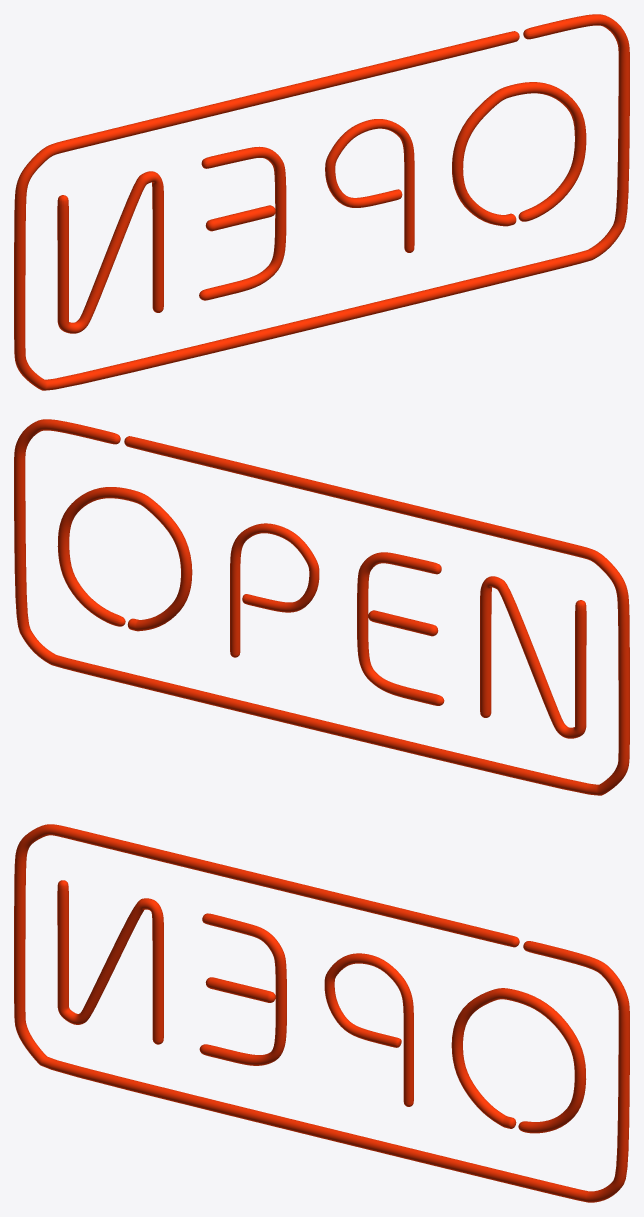
The model's file is neon_open_sign.glb.
The picture shows the model from 3 angles, top to bottom: view 1: azimuth 30°, elevation 25°; view 2: azimuth 150°, elevation 25°; view 3: azimuth 330°, elevation 25°; orthographic projection.
Visible parts, largest first — view 1: Object_2, Object_3, Object_6, Object_5, Object_4; view 2: Object_2, Object_3, Object_6, Object_5, Object_4; view 3: Object_2, Object_3, Object_6, Object_5, Object_4.
Boxes of the visible parts, x1=… form: Object_2: x1=14, y1=14, x2=629, y2=390; Object_3: x1=57, y1=171, x2=163, y2=333; Object_6: x1=452, y1=82, x2=586, y2=226; Object_5: x1=325, y1=119, x2=414, y2=252; Object_4: x1=199, y1=146, x2=286, y2=300; Object_2: x1=14, y1=419, x2=629, y2=795; Object_3: x1=480, y1=576, x2=586, y2=738; Object_6: x1=57, y1=487, x2=192, y2=631; Object_5: x1=230, y1=523, x2=319, y2=657; Object_4: x1=357, y1=552, x2=444, y2=705; Object_2: x1=14, y1=824, x2=629, y2=1202; Object_3: x1=57, y1=880, x2=163, y2=1044; Object_6: x1=451, y1=988, x2=586, y2=1133; Object_5: x1=324, y1=953, x2=413, y2=1106; Object_4: x1=199, y1=913, x2=286, y2=1065.
Bounding box in the file's own units: 770 × 297 × 13.41.
